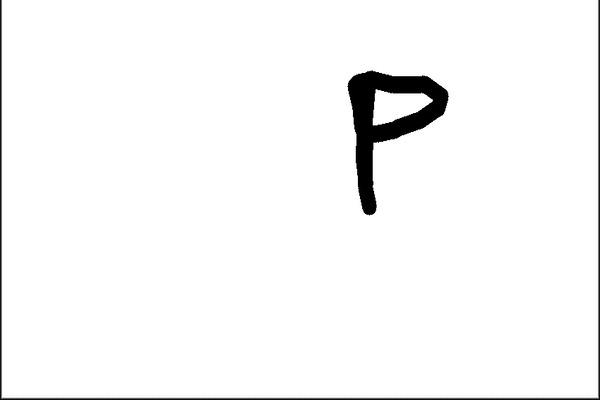P: (332, 57, 453, 214)
